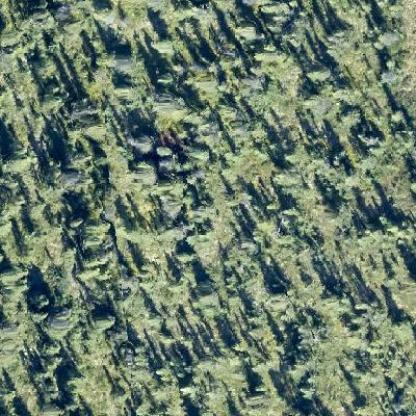tree-top: (155, 90, 191, 122), (40, 302, 74, 332), (128, 155, 154, 183), (302, 88, 330, 113), (90, 308, 118, 333), (38, 90, 64, 116), (268, 284, 292, 311), (62, 147, 88, 170), (60, 368, 86, 391), (176, 242, 200, 266), (124, 218, 148, 242), (308, 58, 333, 81), (33, 56, 54, 78), (94, 0, 116, 20), (390, 315, 409, 335)
